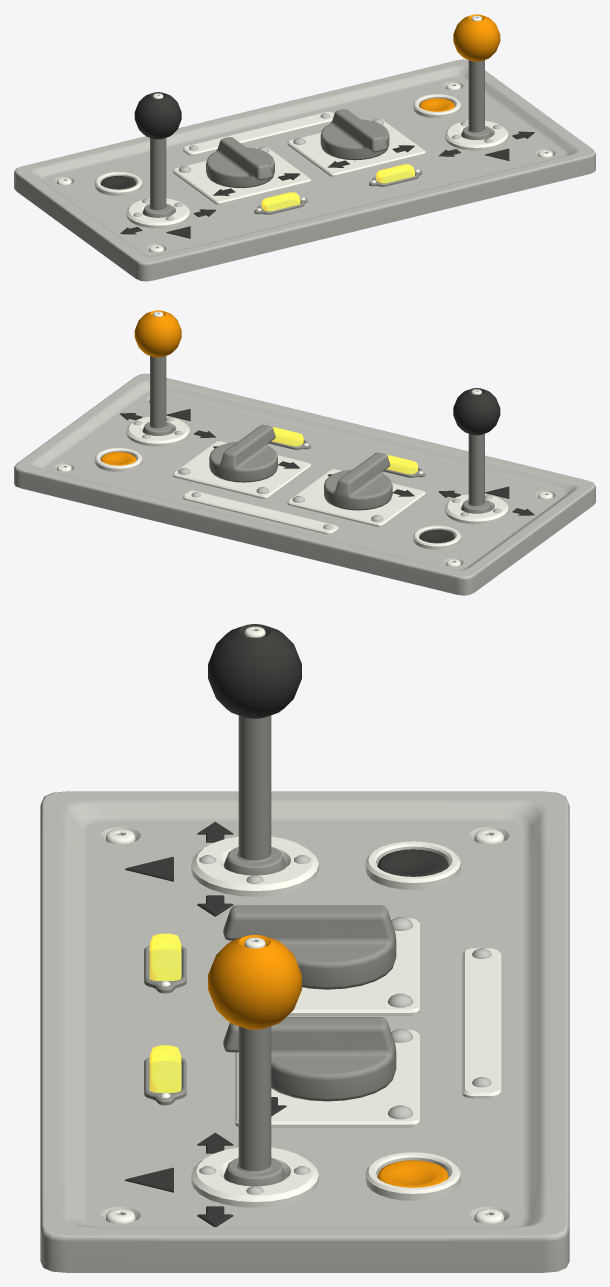
The model's file is control_panel_16.fbx.
3 views of the same model, one above another, from view 1: azimuth 30°, elevation 25°; view 2: azimuth 150°, elevation 25°; view 3: azimuth 270°, elevation 25° (orthographic). The views are drawn at different scales.
Visible parts, largest first — view 1: control_panel_16; view 2: control_panel_16; view 3: control_panel_16.
Boxes of the visible parts, left/top/right/bottom form: control_panel_16: left=14, top=14, right=595, bottom=281; control_panel_16: left=14, top=310, right=595, bottom=595; control_panel_16: left=40, top=624, right=569, bottom=1272.
Size of the model in its own units: 40 by 11.2 by 20.
